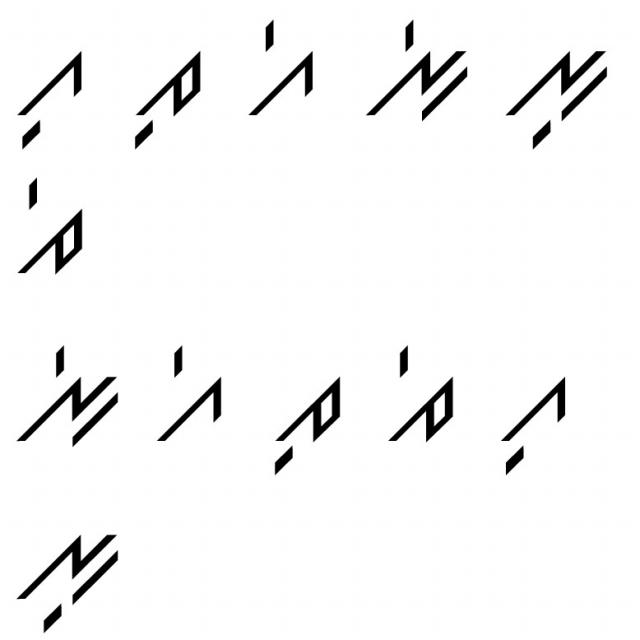ge: (149, 339, 226, 452), (238, 21, 322, 119)
gu: (495, 368, 573, 480), (15, 47, 87, 156)
nge: (12, 333, 122, 459), (356, 14, 472, 127)
ngu: (14, 515, 122, 634), (504, 32, 612, 148)
te: (379, 337, 458, 452), (17, 172, 92, 282)
tu: (264, 364, 346, 480), (132, 49, 206, 148)
